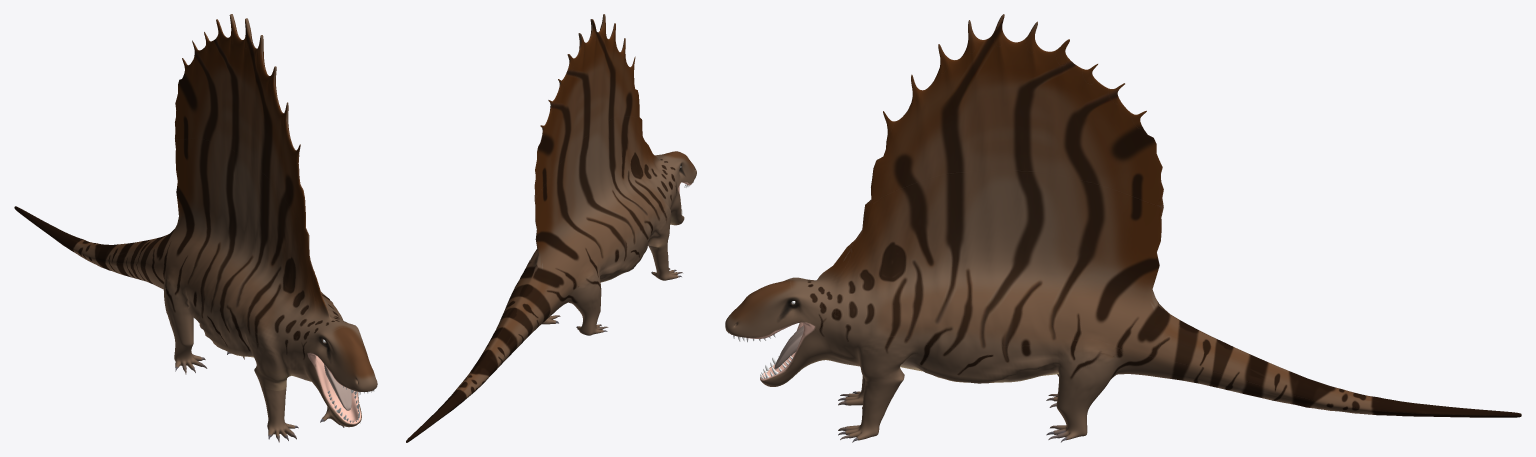
The model's file is dimetrodonte_cp4096.glb.
3 views of the same model, side by side, from view 1: azimuth 30°, elevation 25°; view 2: azimuth 150°, elevation 25°; view 3: azimuth 270°, elevation 25° (orthographic). The views are drawn at different scales.
Parts seen in each view (by area): view 1: dimetrodon, tough; view 2: dimetrodon; view 3: dimetrodon.
Part boxes in pixels (left/top/right/bottom): dimetrodon: left=14, top=14, right=377, bottom=442; tough: left=324, top=364, right=351, bottom=410; dimetrodon: left=406, top=14, right=696, bottom=442; dimetrodon: left=725, top=14, right=1521, bottom=442.
Size of the model in its own units: 0.5564 by 2.11 by 3.77.
Materials: 3 (1 with a texture image).
